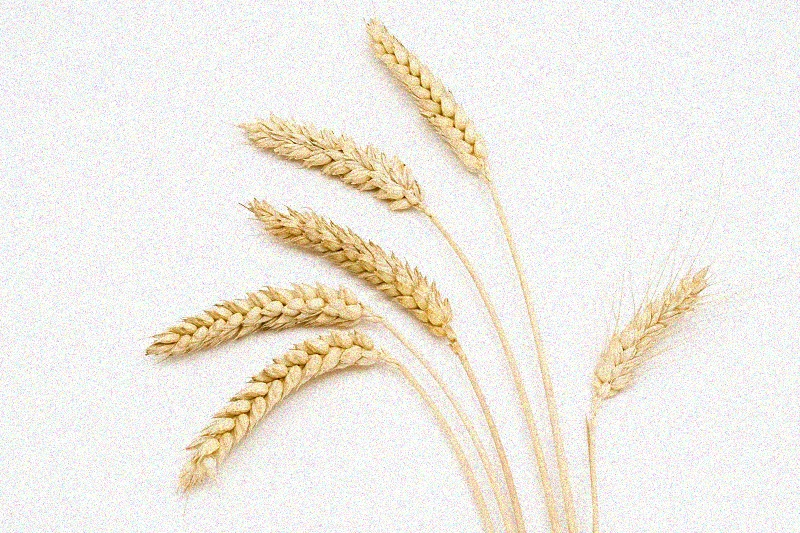wheat: (143, 332, 398, 501), (240, 200, 461, 343), (360, 14, 509, 214), (587, 237, 721, 437), (240, 111, 446, 229), (140, 282, 374, 359)
